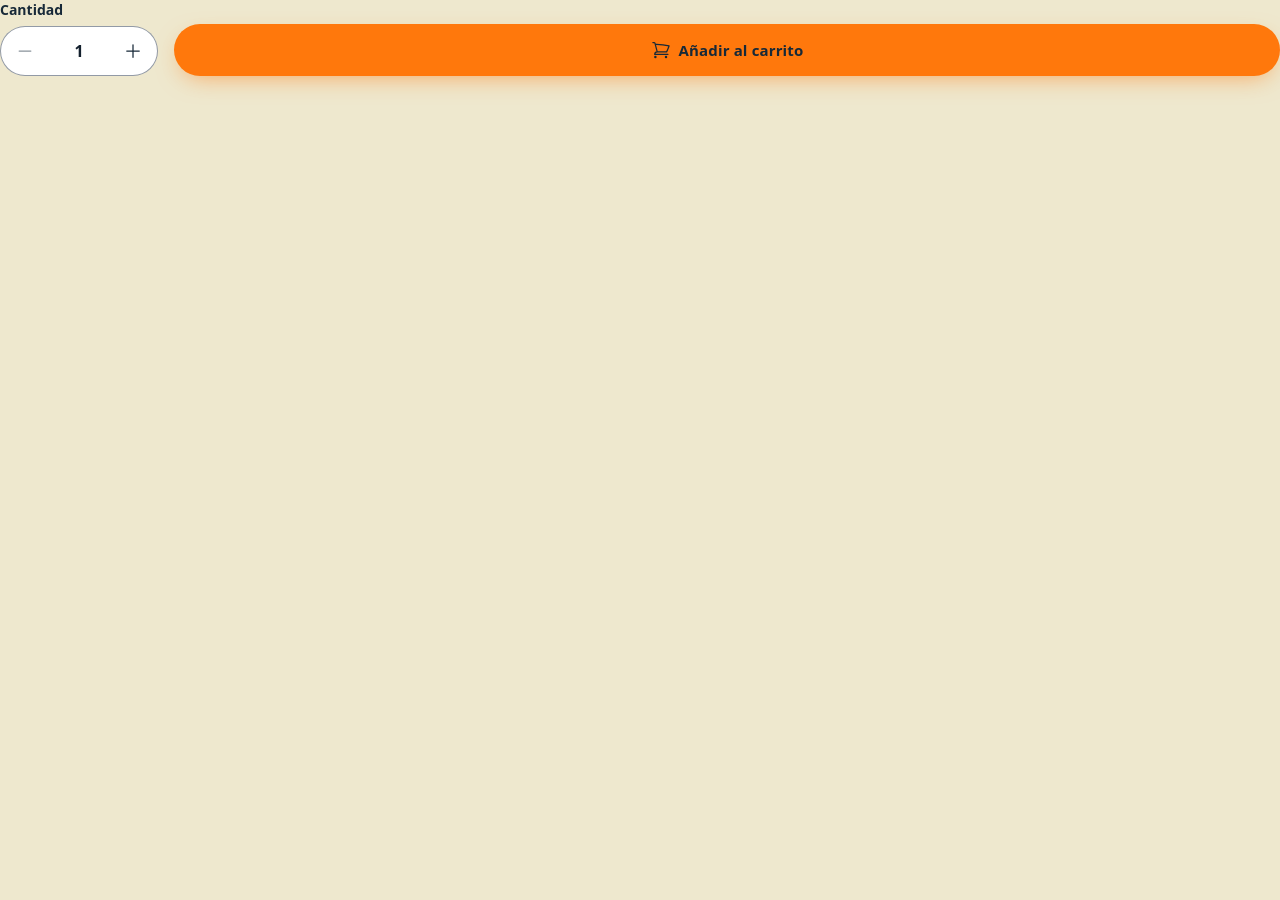
Test case: AddToCart › stays focusable while adding, so the cart drawer returns focus to it on Escape
Click the button "Añadir al carrito": (727, 50) left=174, top=24, right=1279, bottom=76
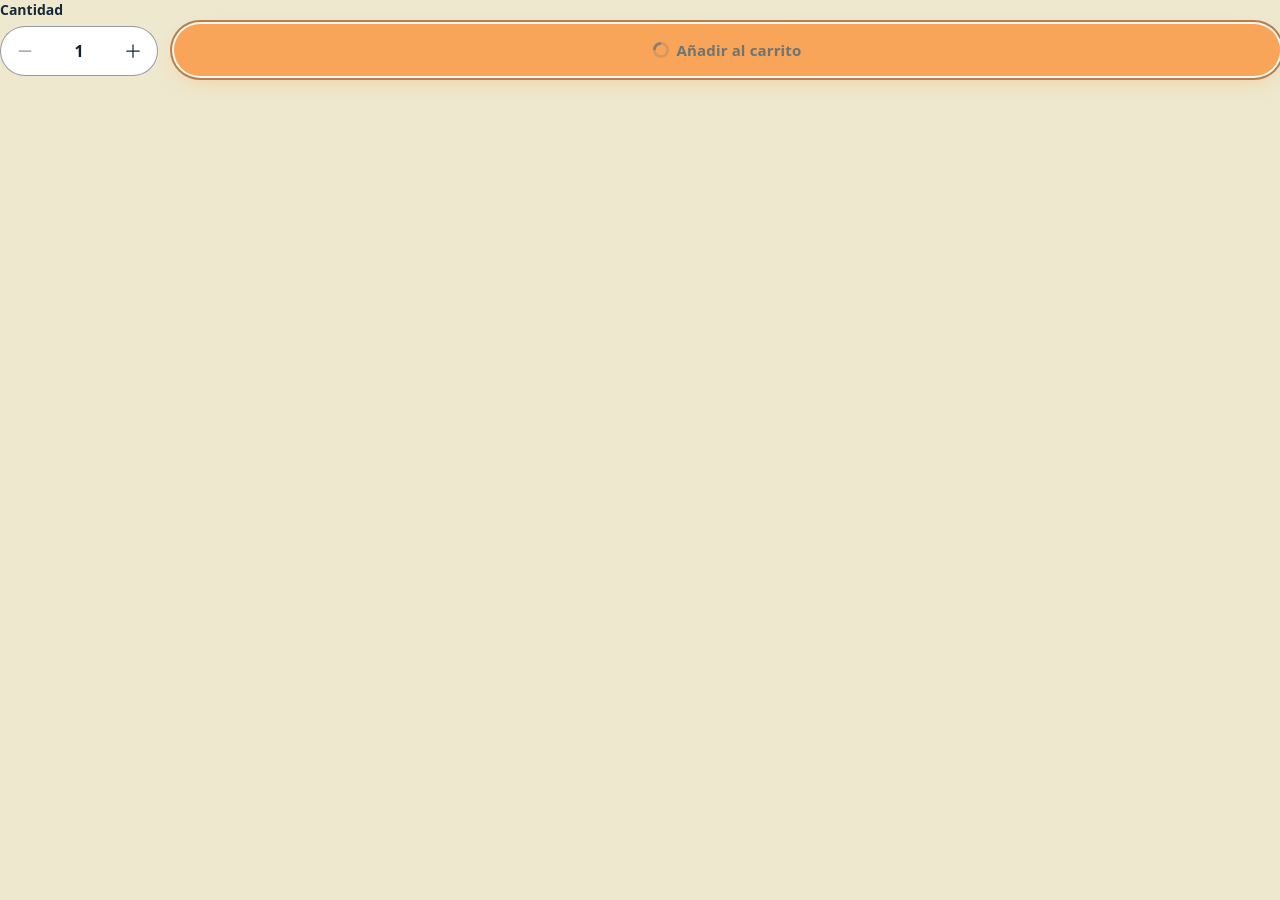
Expected: the button "Añadir al carrito" is enabled
Click the button "Añadir al carrito": (727, 50) left=174, top=24, right=1279, bottom=76
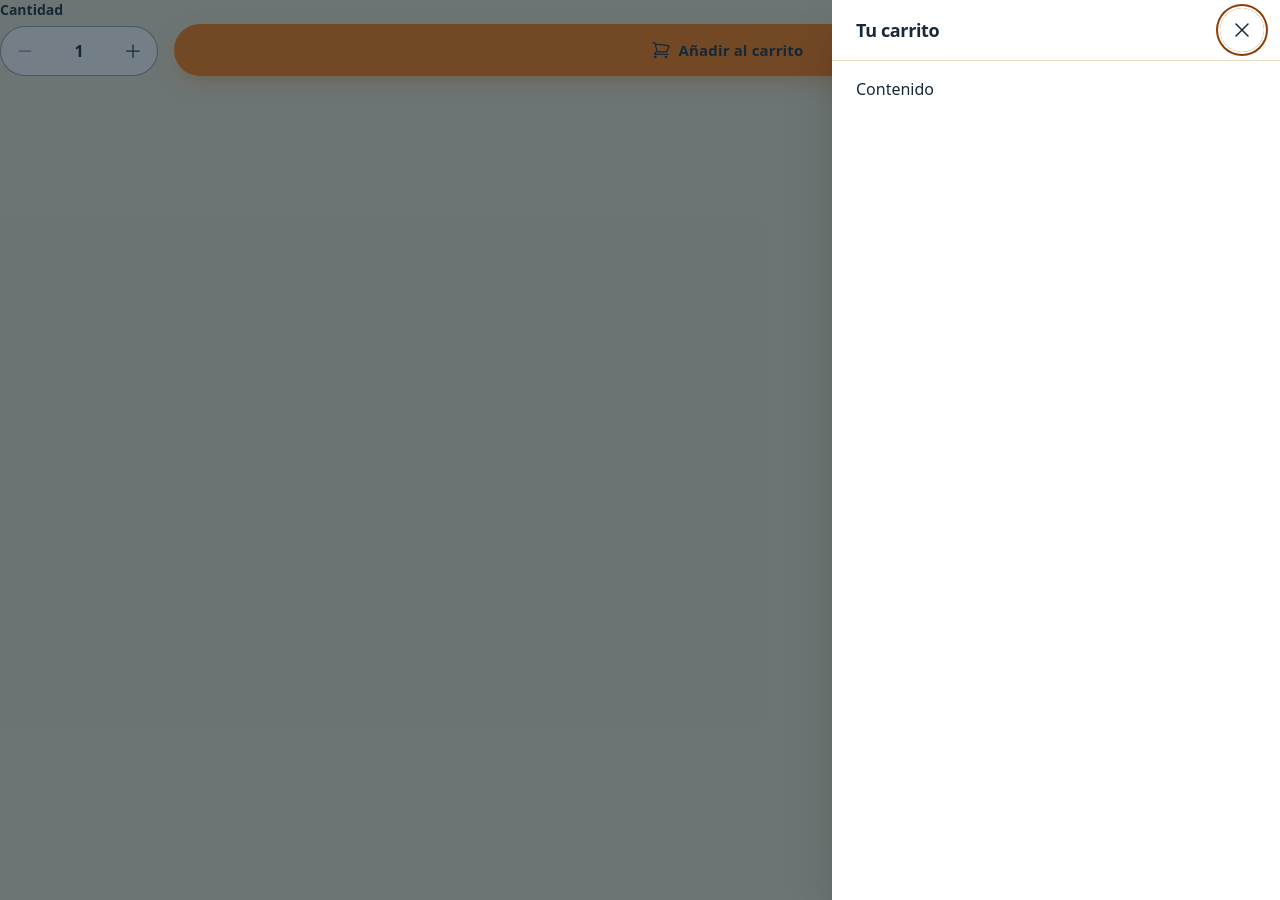
Press Escape
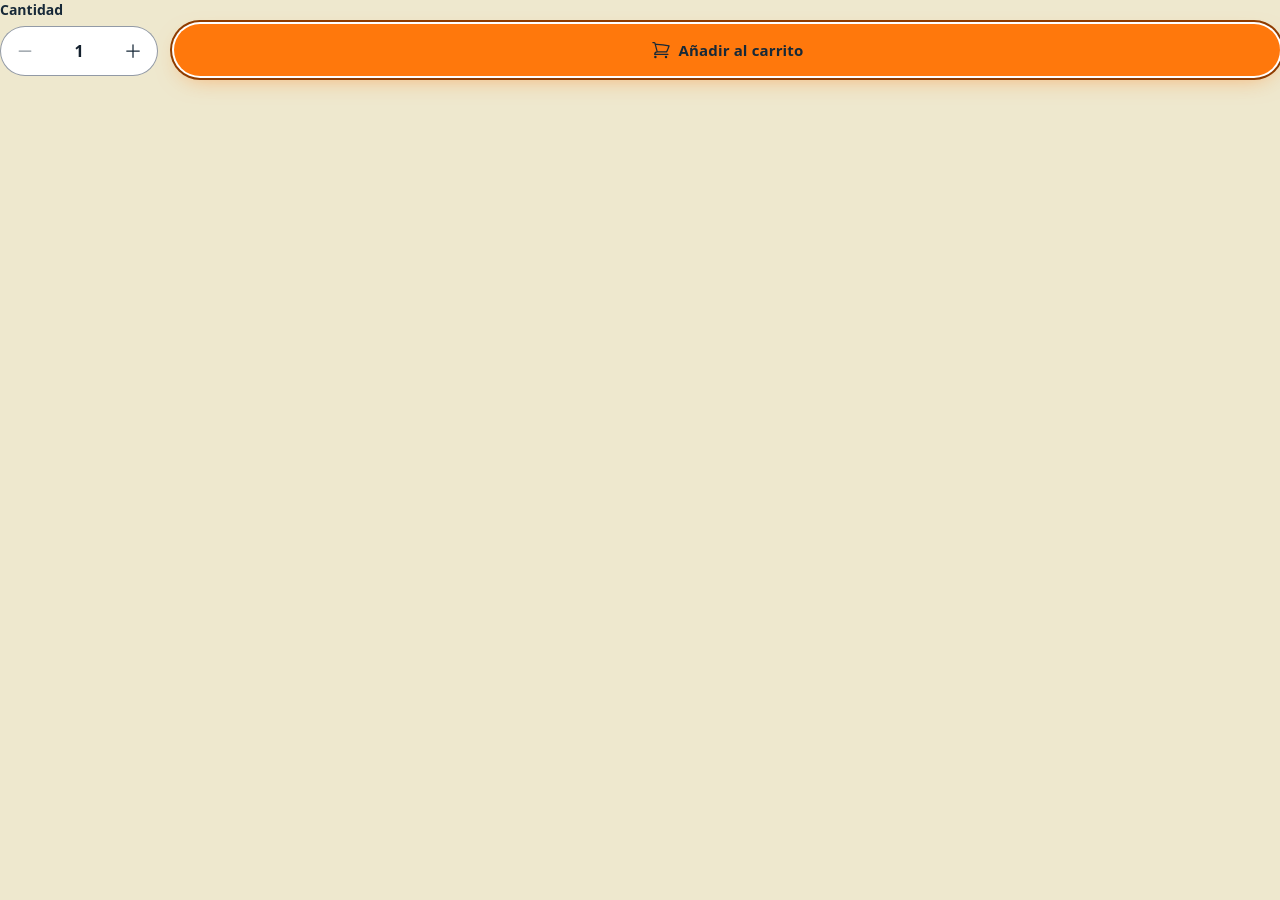
Expected: the dialog is gone
